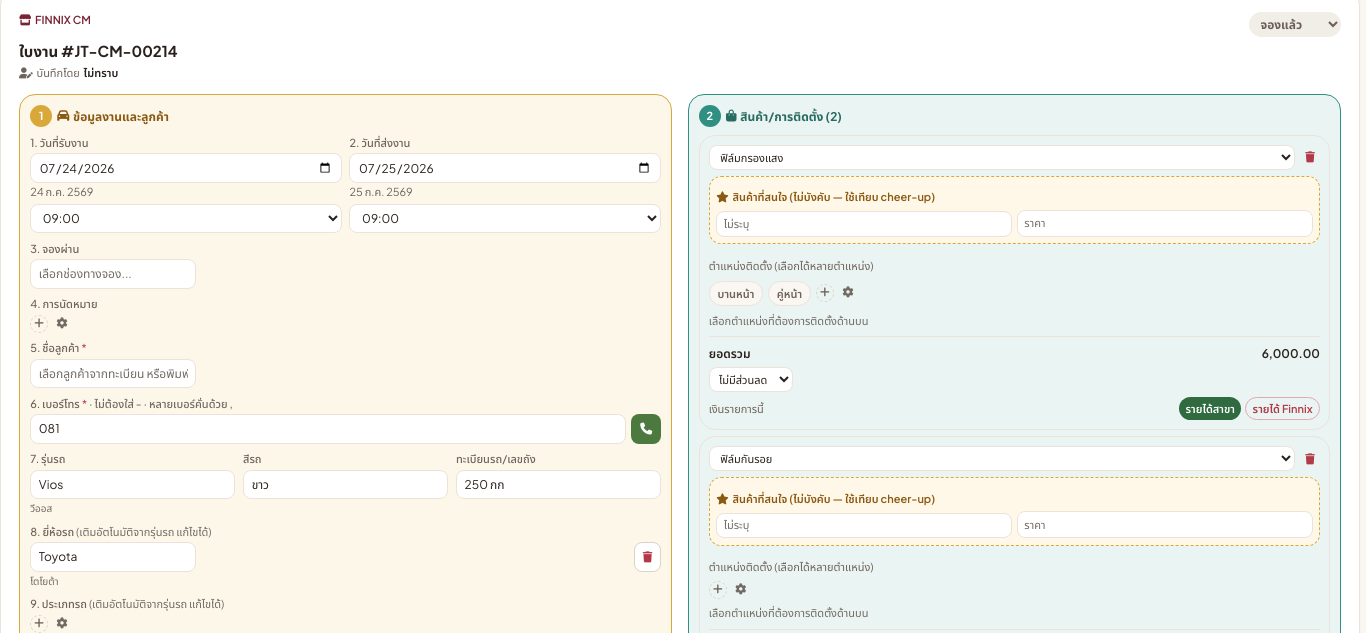
Test: TicketDetail — รายได้/รับแทน ทีละรายการ › ไม่มีรายการของสาขาเลย จึงออกใบกำกับภาษีไม่ได้
Click the button with aria-label "รายได้ Finnix รายการที่ 1": (1283, 408) [1245, 397, 1320, 420]
(page scrolled)
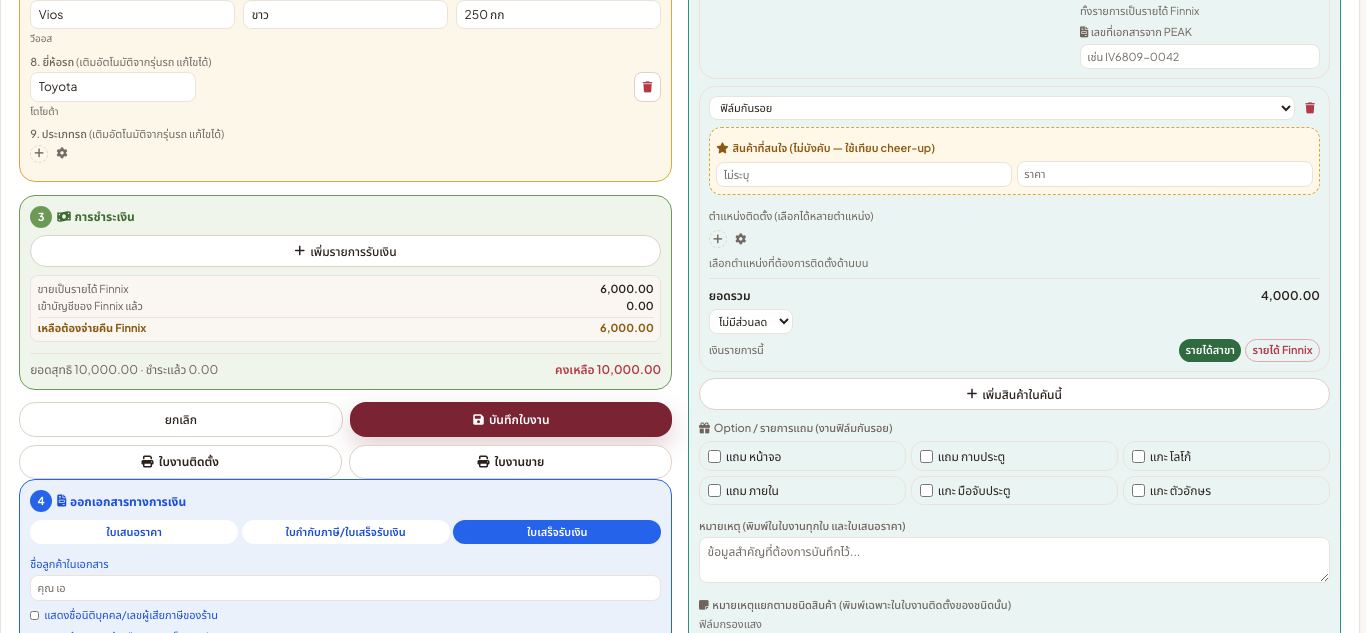
Click the button with aria-label "รายได้ Finnix รายการที่ 2": (1283, 350) [1245, 339, 1320, 362]
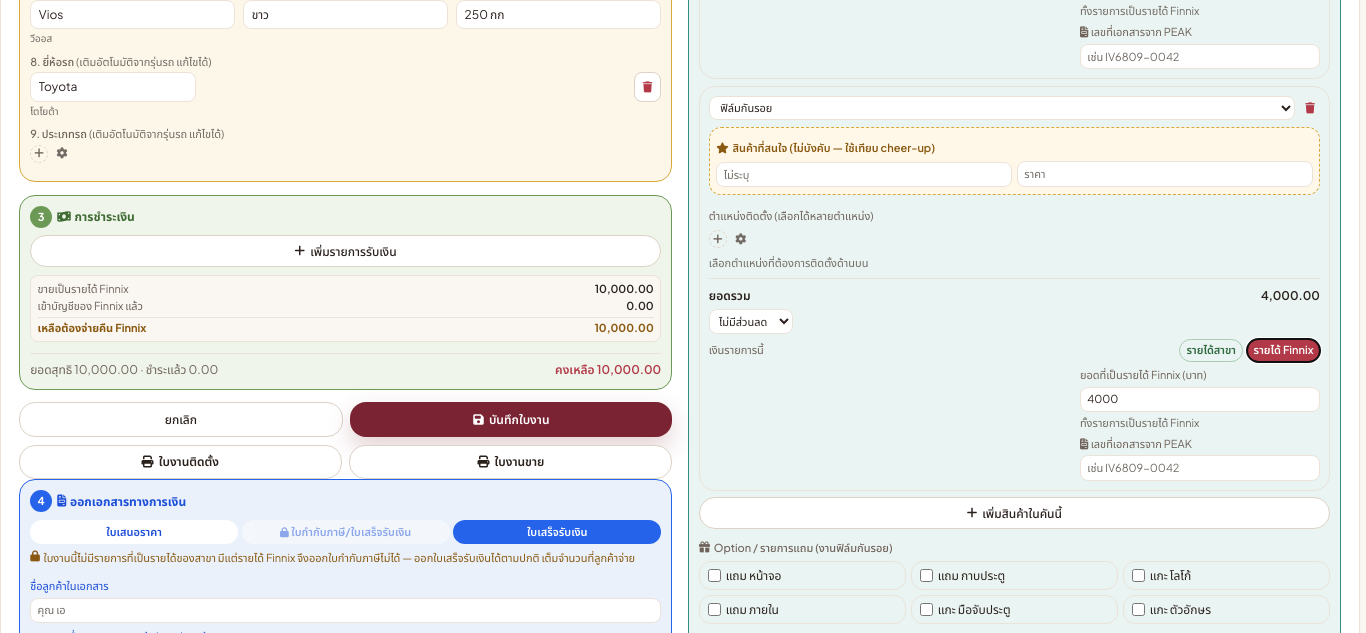
Expected: the button "ใบเสร็จรับเงิน" is enabled, [453, 520, 661, 544]
Now the button "ใบกำกับภาษี/ใบเสร็จรับเงิน" is disabled, box [242, 520, 450, 544]
Now the text "ไม่มีรายการที่เป็นรายได้ของสาขา" is shown, box [44, 551, 635, 564]
